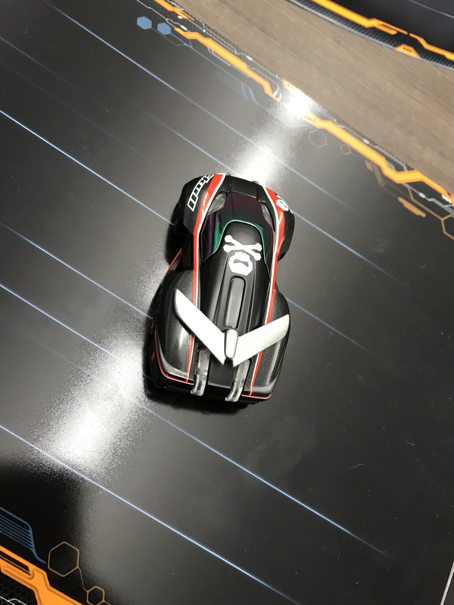Skull: (153, 171, 294, 397)
